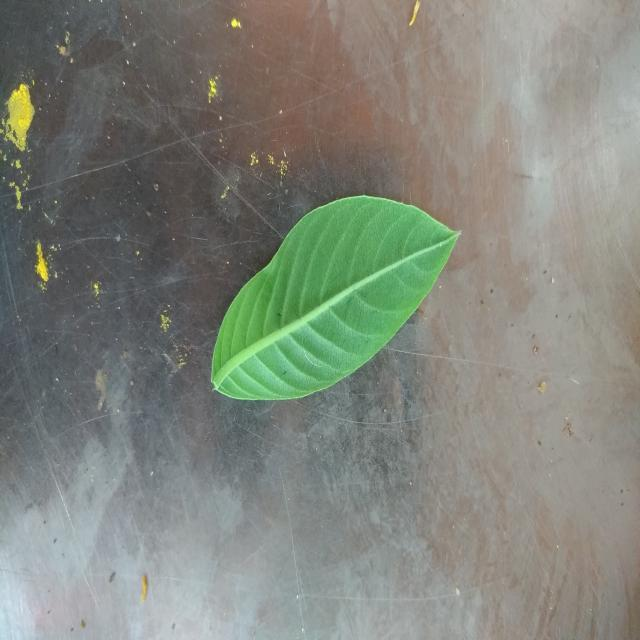malabar_nut: (211, 196, 459, 400)
